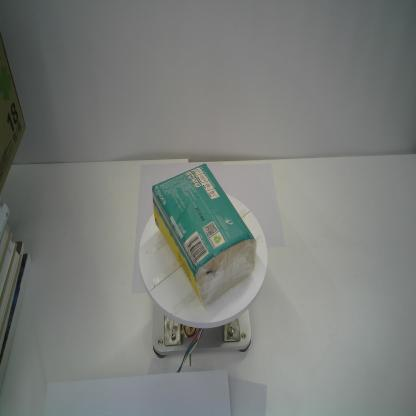Tissue: (152, 163, 257, 309)
